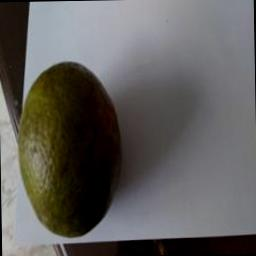Orange Unripe: (8, 52, 128, 254)
